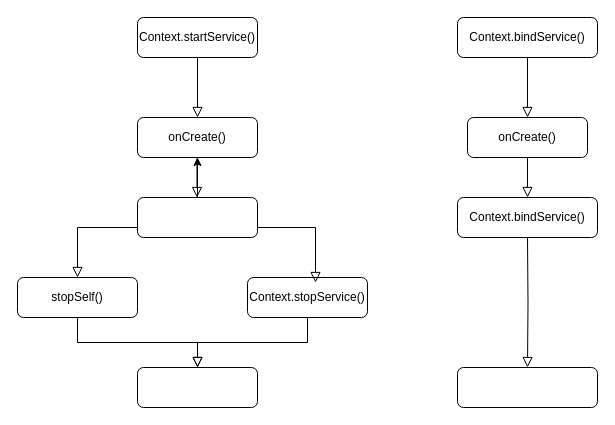
Some shapes in this 615 by 425 pixel diagram are drawn without their labels. The centre of each missing label's shape, as x and y in pixels:
"onDestroy" goes at (527,387).
"onDestroy()" goes at (197,387).
"onStartCommand()" goes at (197,217).
